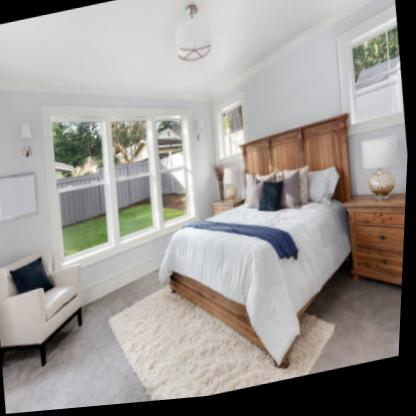Bed: (161, 121, 354, 373)
Nightstand: (349, 203, 408, 296)
Window: (43, 106, 202, 270), (336, 8, 405, 130)
